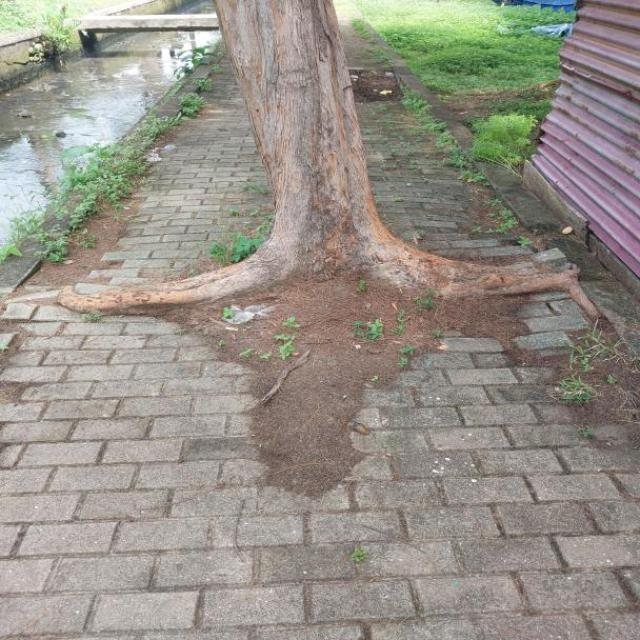tree ahead at: (209, 0, 422, 326)
